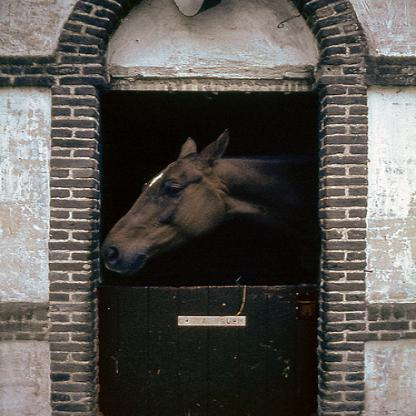horse: (99, 127, 314, 275)
